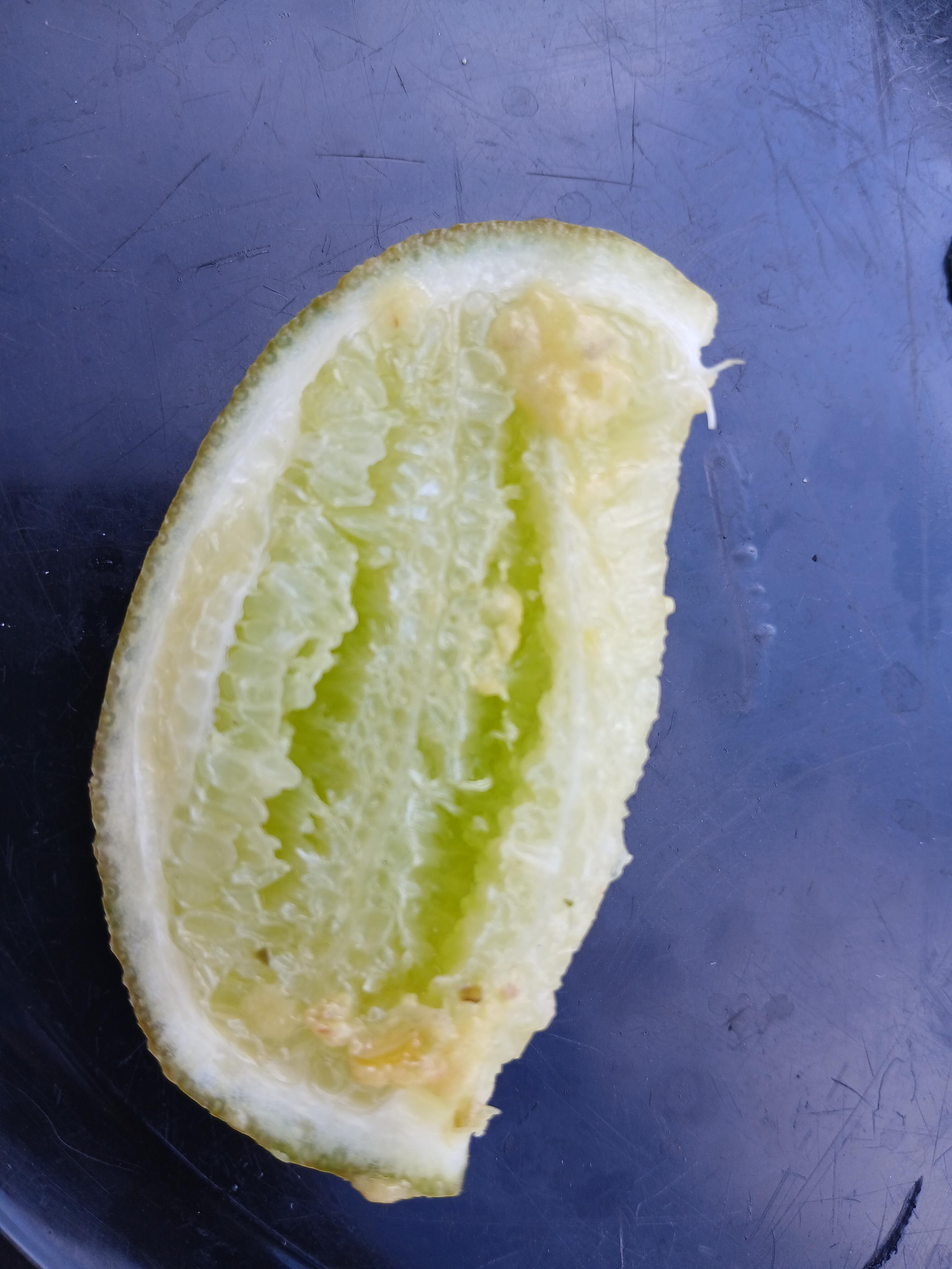Organico: (90, 166, 722, 1207)
